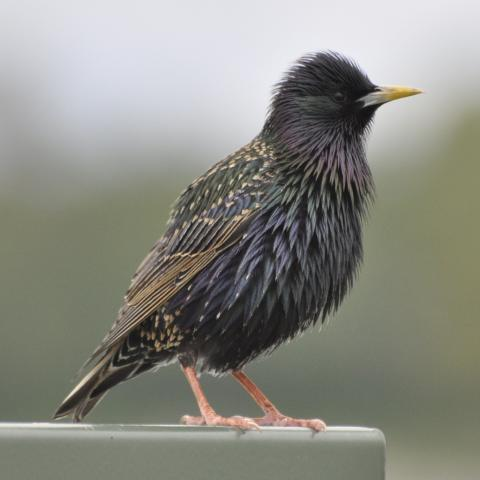bird: (51, 48, 425, 433)
